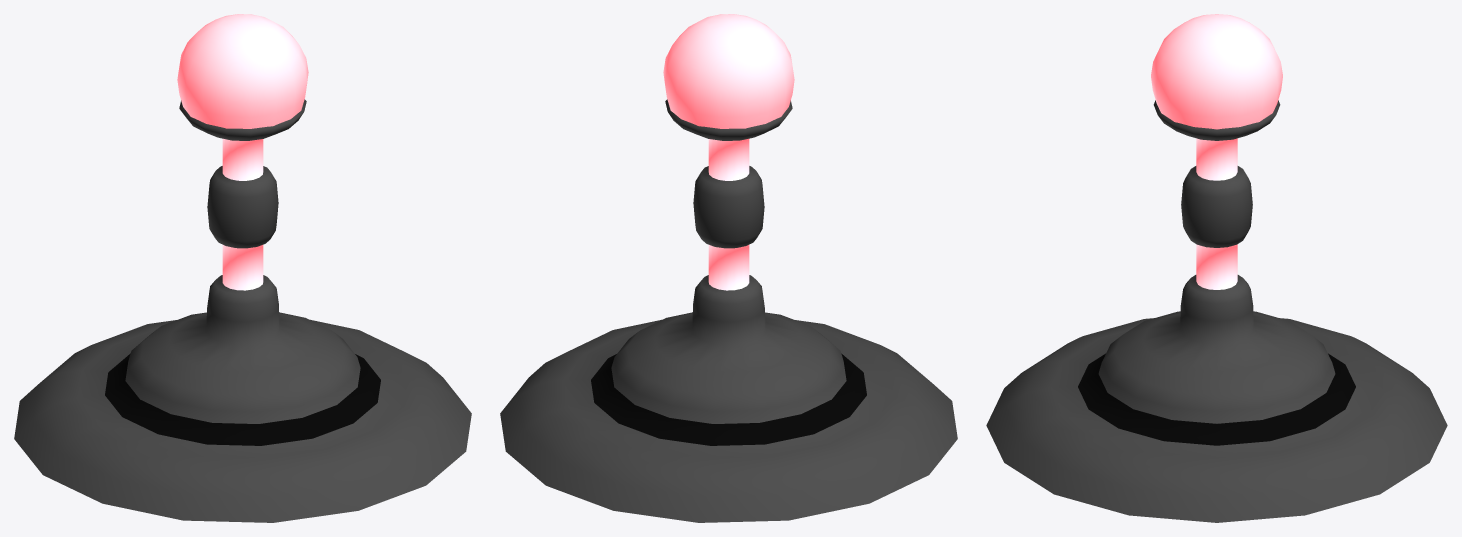
Rendered from PH_mesh_Traps_ElectricalBall.fbx.
The picture shows the model from 3 angles, left to right: view 1: azimuth 30°, elevation 25°; view 2: azimuth 150°, elevation 25°; view 3: azimuth 270°, elevation 25°; orthographic projection.
Visible parts, largest first — view 1: mesh_Factory_Trap_ElectricalBall.001; view 2: mesh_Factory_Trap_ElectricalBall.001; view 3: mesh_Factory_Trap_ElectricalBall.001.
Part boxes in pixels (left/top/right/bottom): mesh_Factory_Trap_ElectricalBall.001: left=14, top=14, right=471, bottom=522; mesh_Factory_Trap_ElectricalBall.001: left=500, top=14, right=957, bottom=522; mesh_Factory_Trap_ElectricalBall.001: left=986, top=14, right=1447, bottom=522.
Size of the model in its own units: 2.02 by 1.95 by 2.02.
